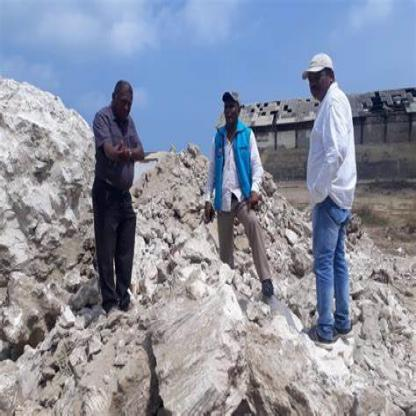person: (293, 40, 367, 341), (198, 72, 276, 299), (85, 65, 148, 326)
